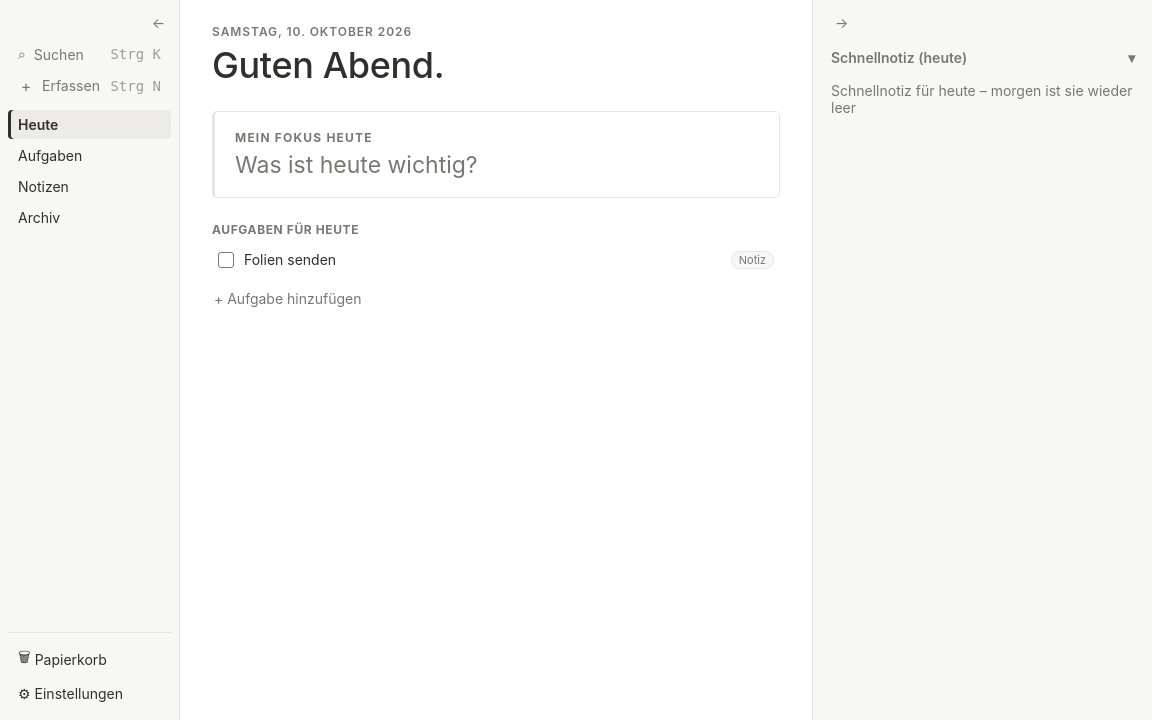
Scenario: Schnellerfassung › oeffnet die verknuepfte Notiz aus einer Aufgabe der Heute-Seite
Click the button with aria-label "Notiz zu Folien senden öffnen".
click(752, 260)  # box [731,250,774,268]
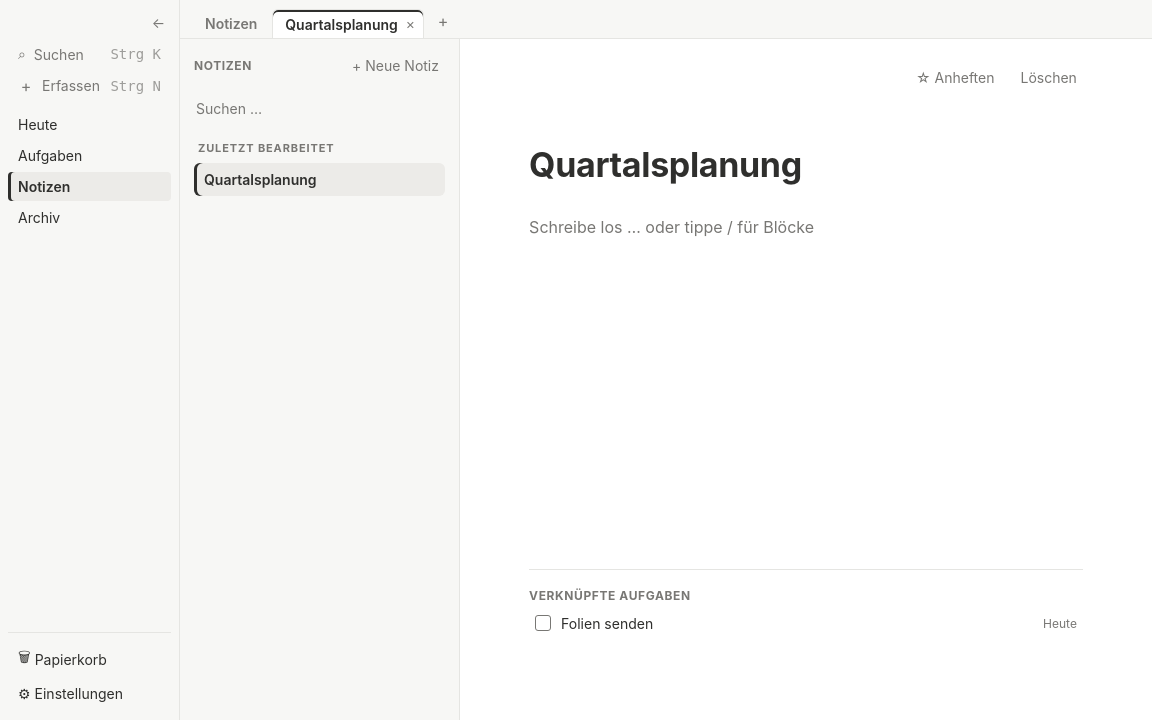
Now the field named "Titel" holds "Quartalsplanung", box [529,144,1083,186]
